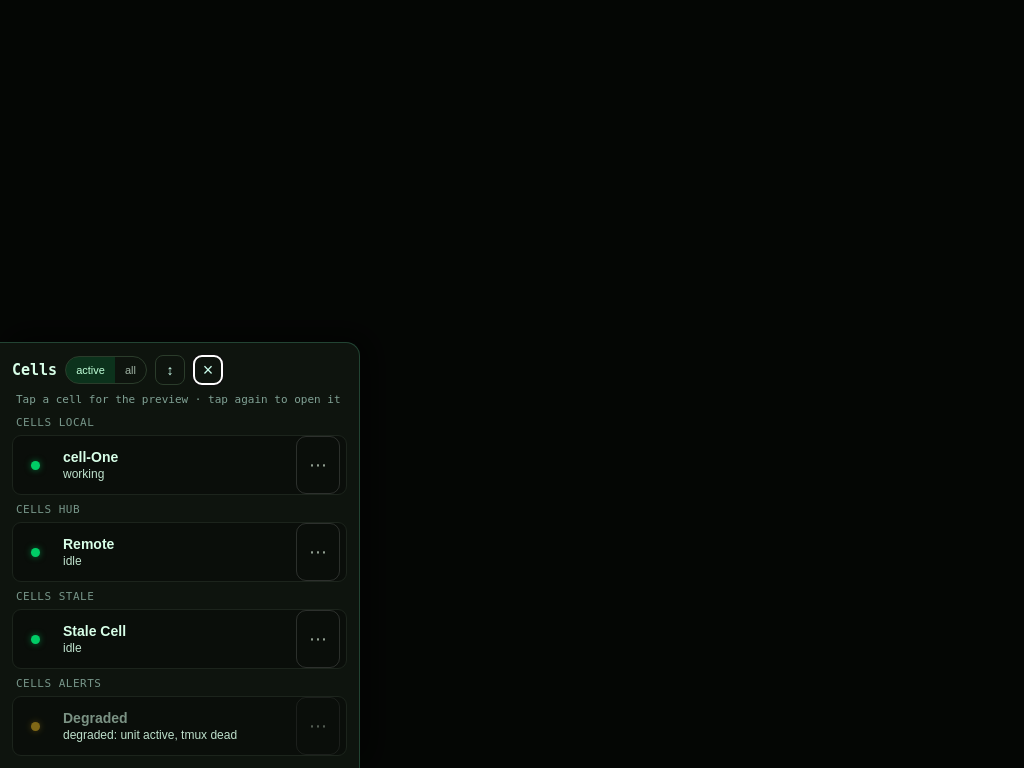
Test: CellSwitcher › exposes the full inventory deliberately and refuses an off target with an explicit status
The image size is (1024, 768).
Expected: the button "cell-One working" is shown, [63,436,290,494]
Click the button "all" at (130, 370), box [115,357,146,383]
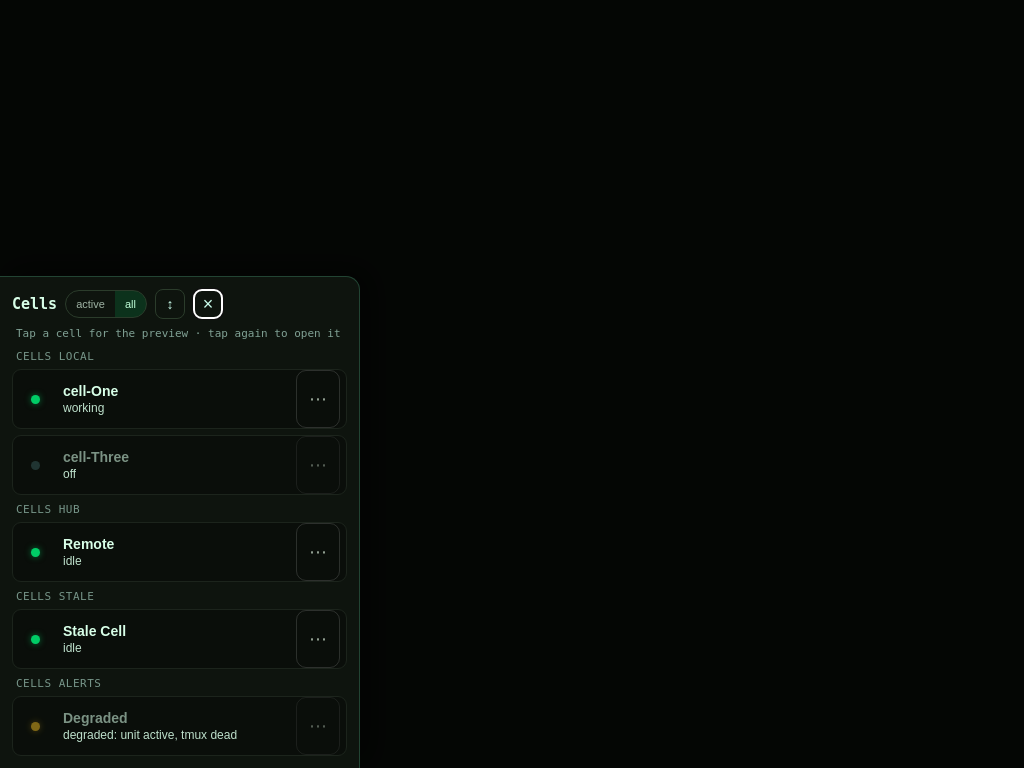
Click the button "cell-Three off" at (176, 465), box [63,436,290,494]
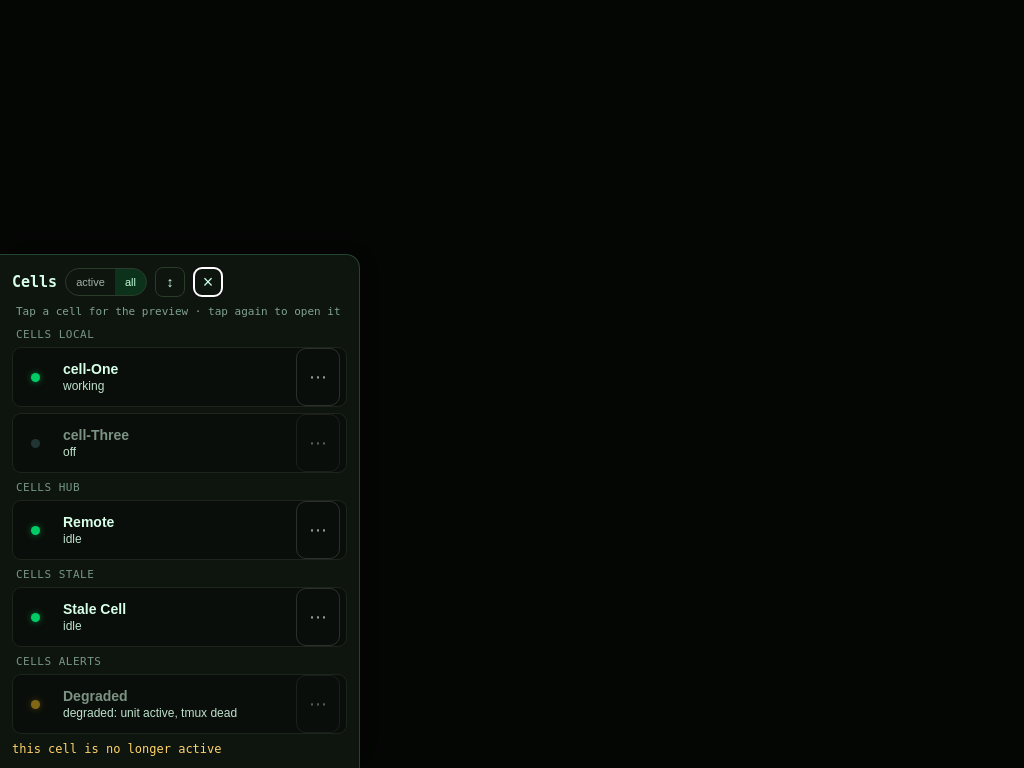
Expected: the text "this cell is no longer active" is shown, [12,742,222,756]
